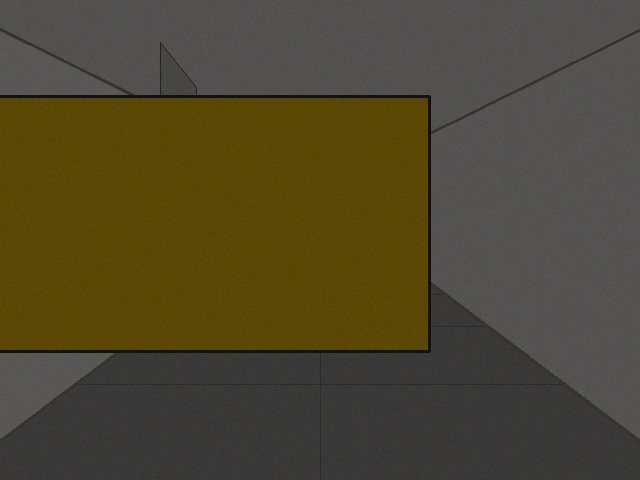forklift: (0, 0, 429, 351)
